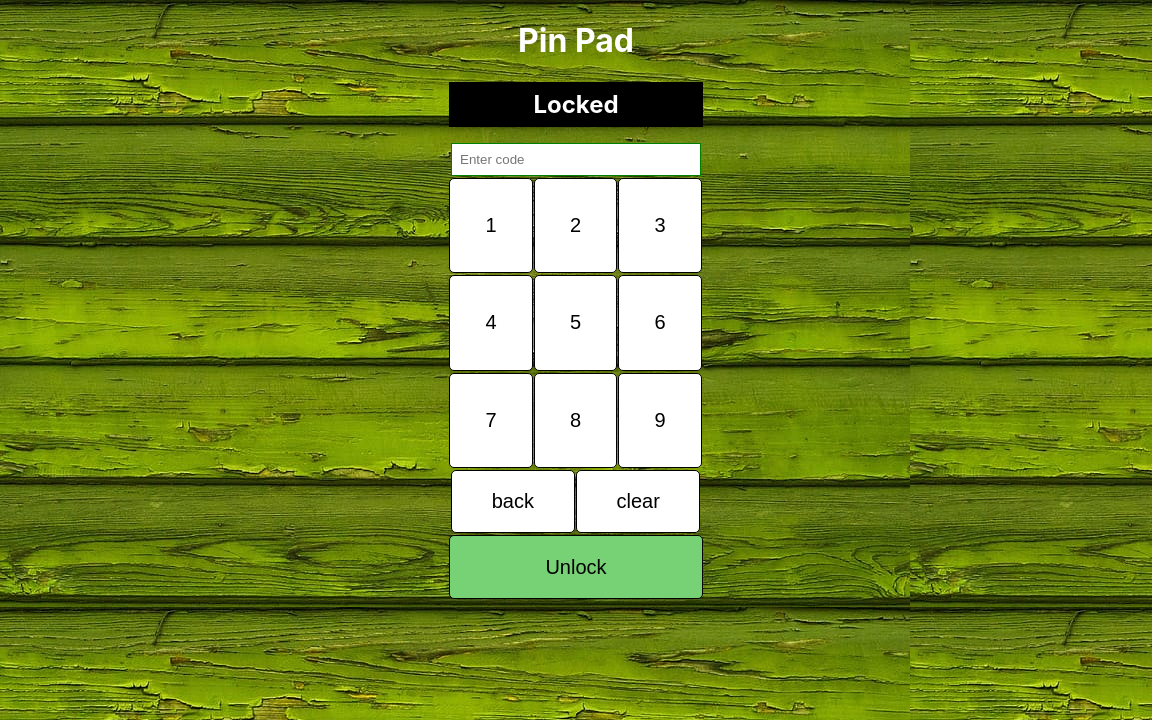
should return incorrect code message
Click the button "1": coordinates (491, 226) [449, 178, 533, 273]
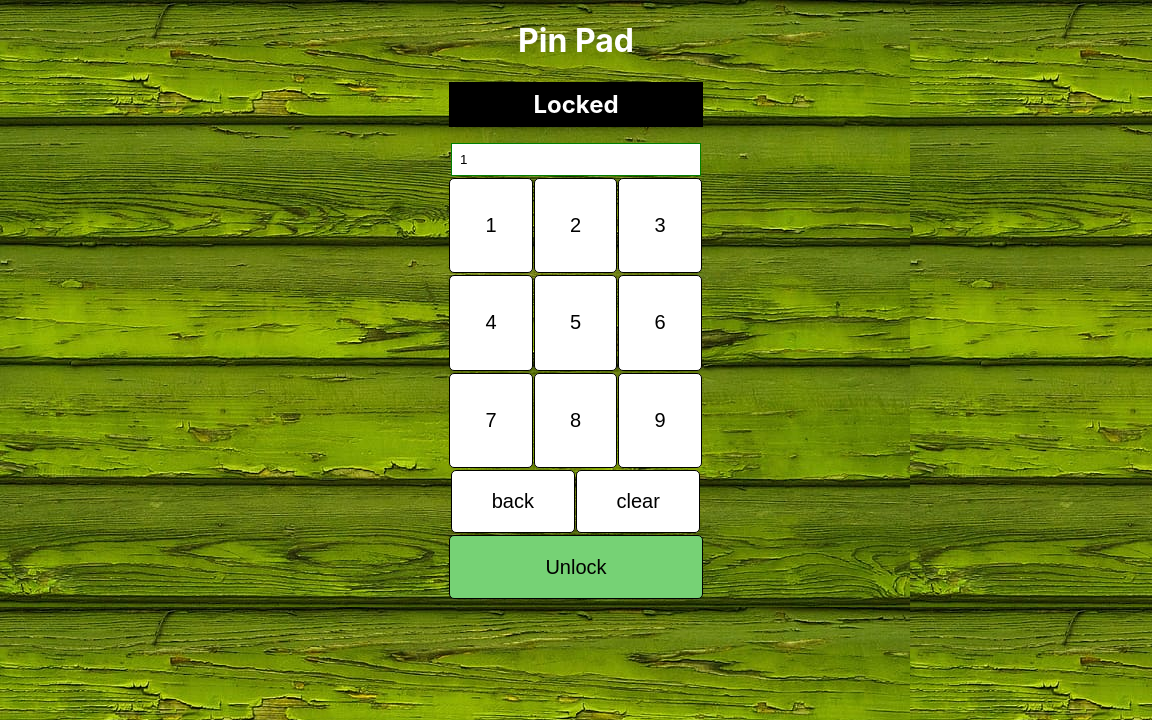
Click the button "9": coordinates (660, 420) [618, 373, 702, 468]
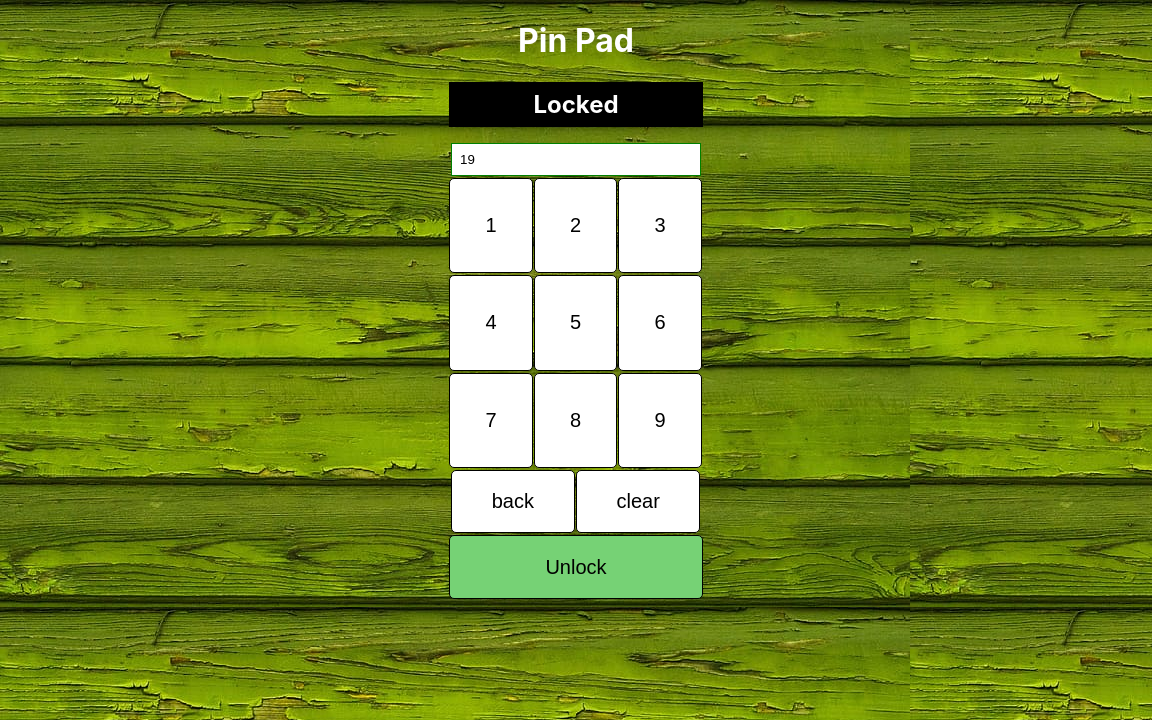
Click the button "9": coordinates (660, 420) [618, 373, 702, 468]
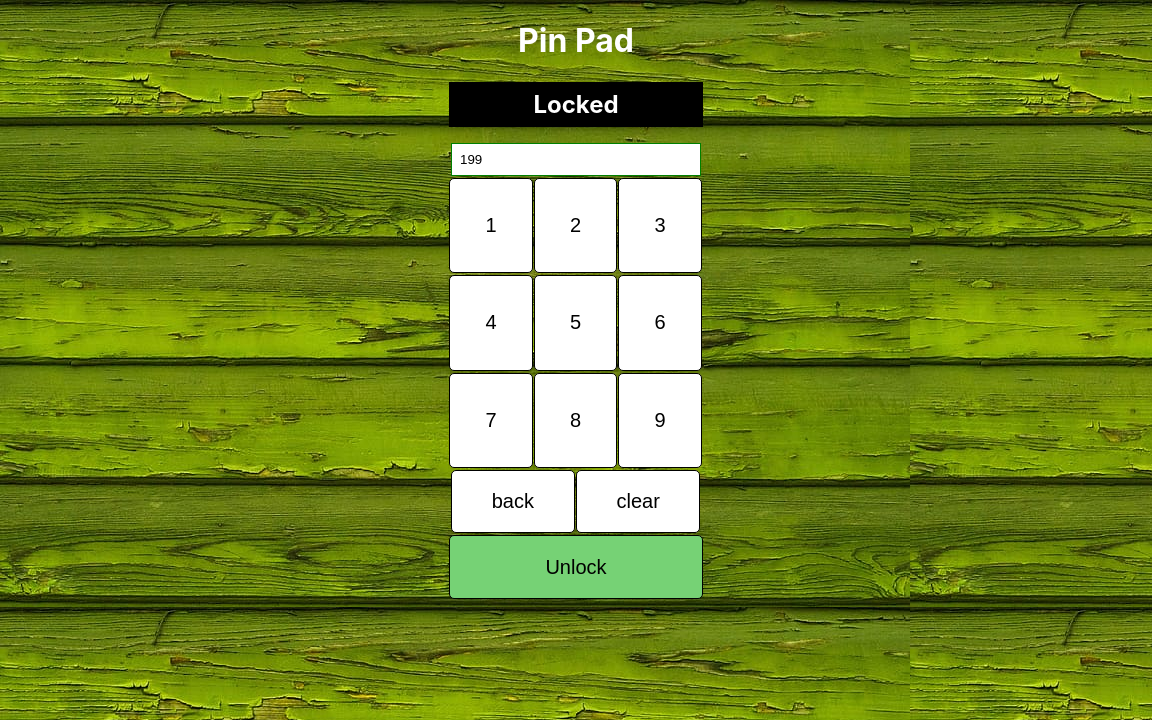
Click the button "6": coordinates (660, 323) [618, 275, 702, 371]
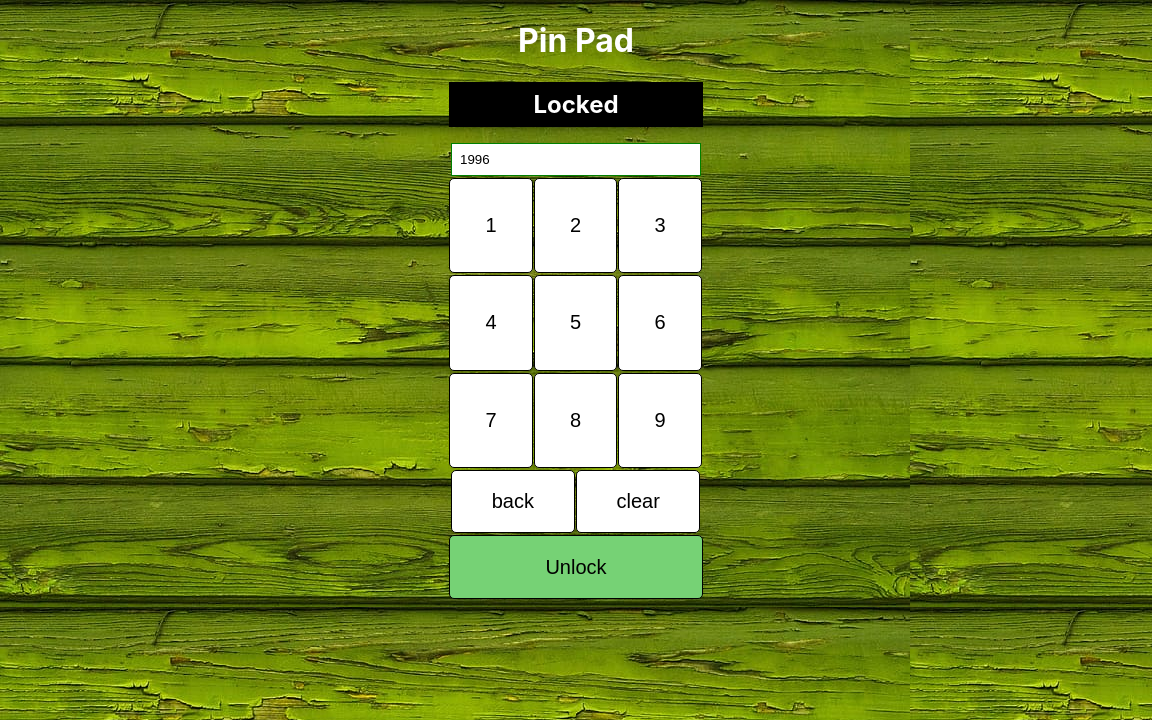
Result: the field named "input-code" holds "1996" at [451, 143, 701, 176]
Click the button "Unlock": coordinates (576, 567) [449, 535, 703, 599]
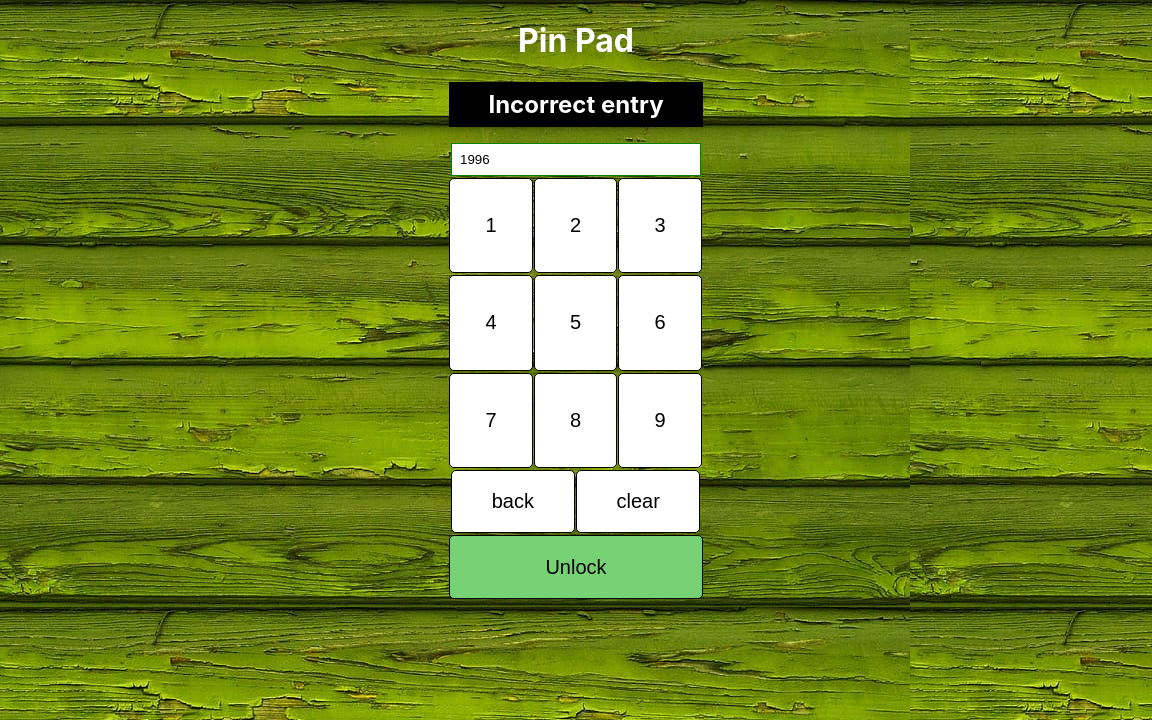
Result: the heading "Incorrect entry" is shown at [488, 90, 664, 119]
